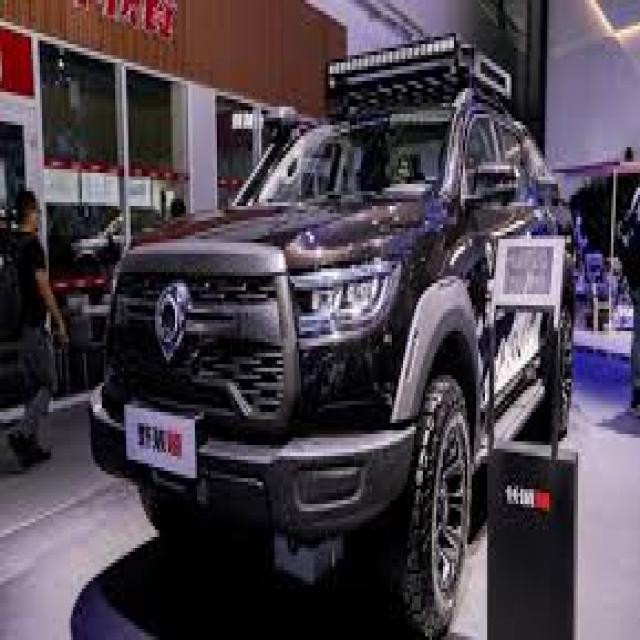Pickup Trucks: (89, 78, 580, 636)
